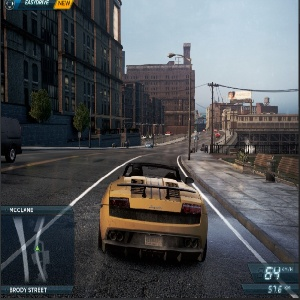building: (126, 49, 196, 136), (207, 96, 297, 132)
electrical pole: (202, 78, 229, 158)
garbage: (261, 159, 278, 183)
lamp post: (168, 49, 197, 163)
tree: (28, 87, 49, 128), (74, 103, 89, 143)
vehicle: (1, 109, 25, 162), (140, 139, 156, 148)
